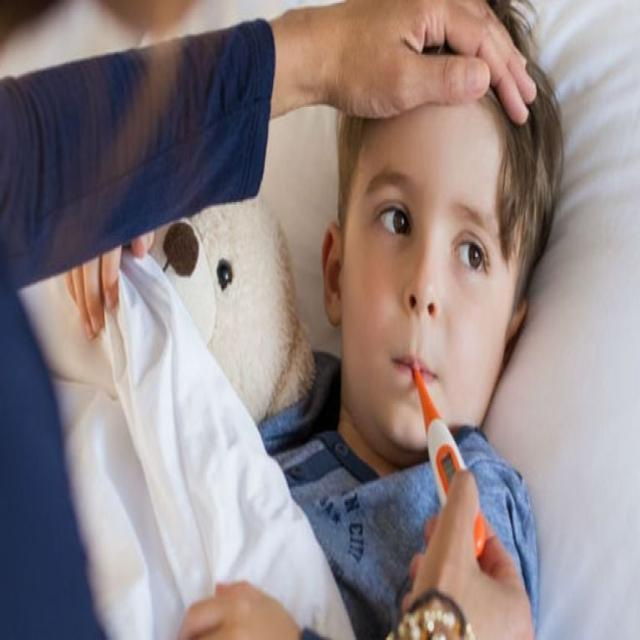adult: (0, 0, 537, 640)
child: (253, 4, 534, 640)
